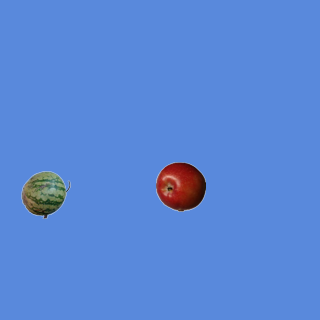Apple Braeburn: (155, 161, 205, 211)
Watermelon: (20, 169, 70, 219)
